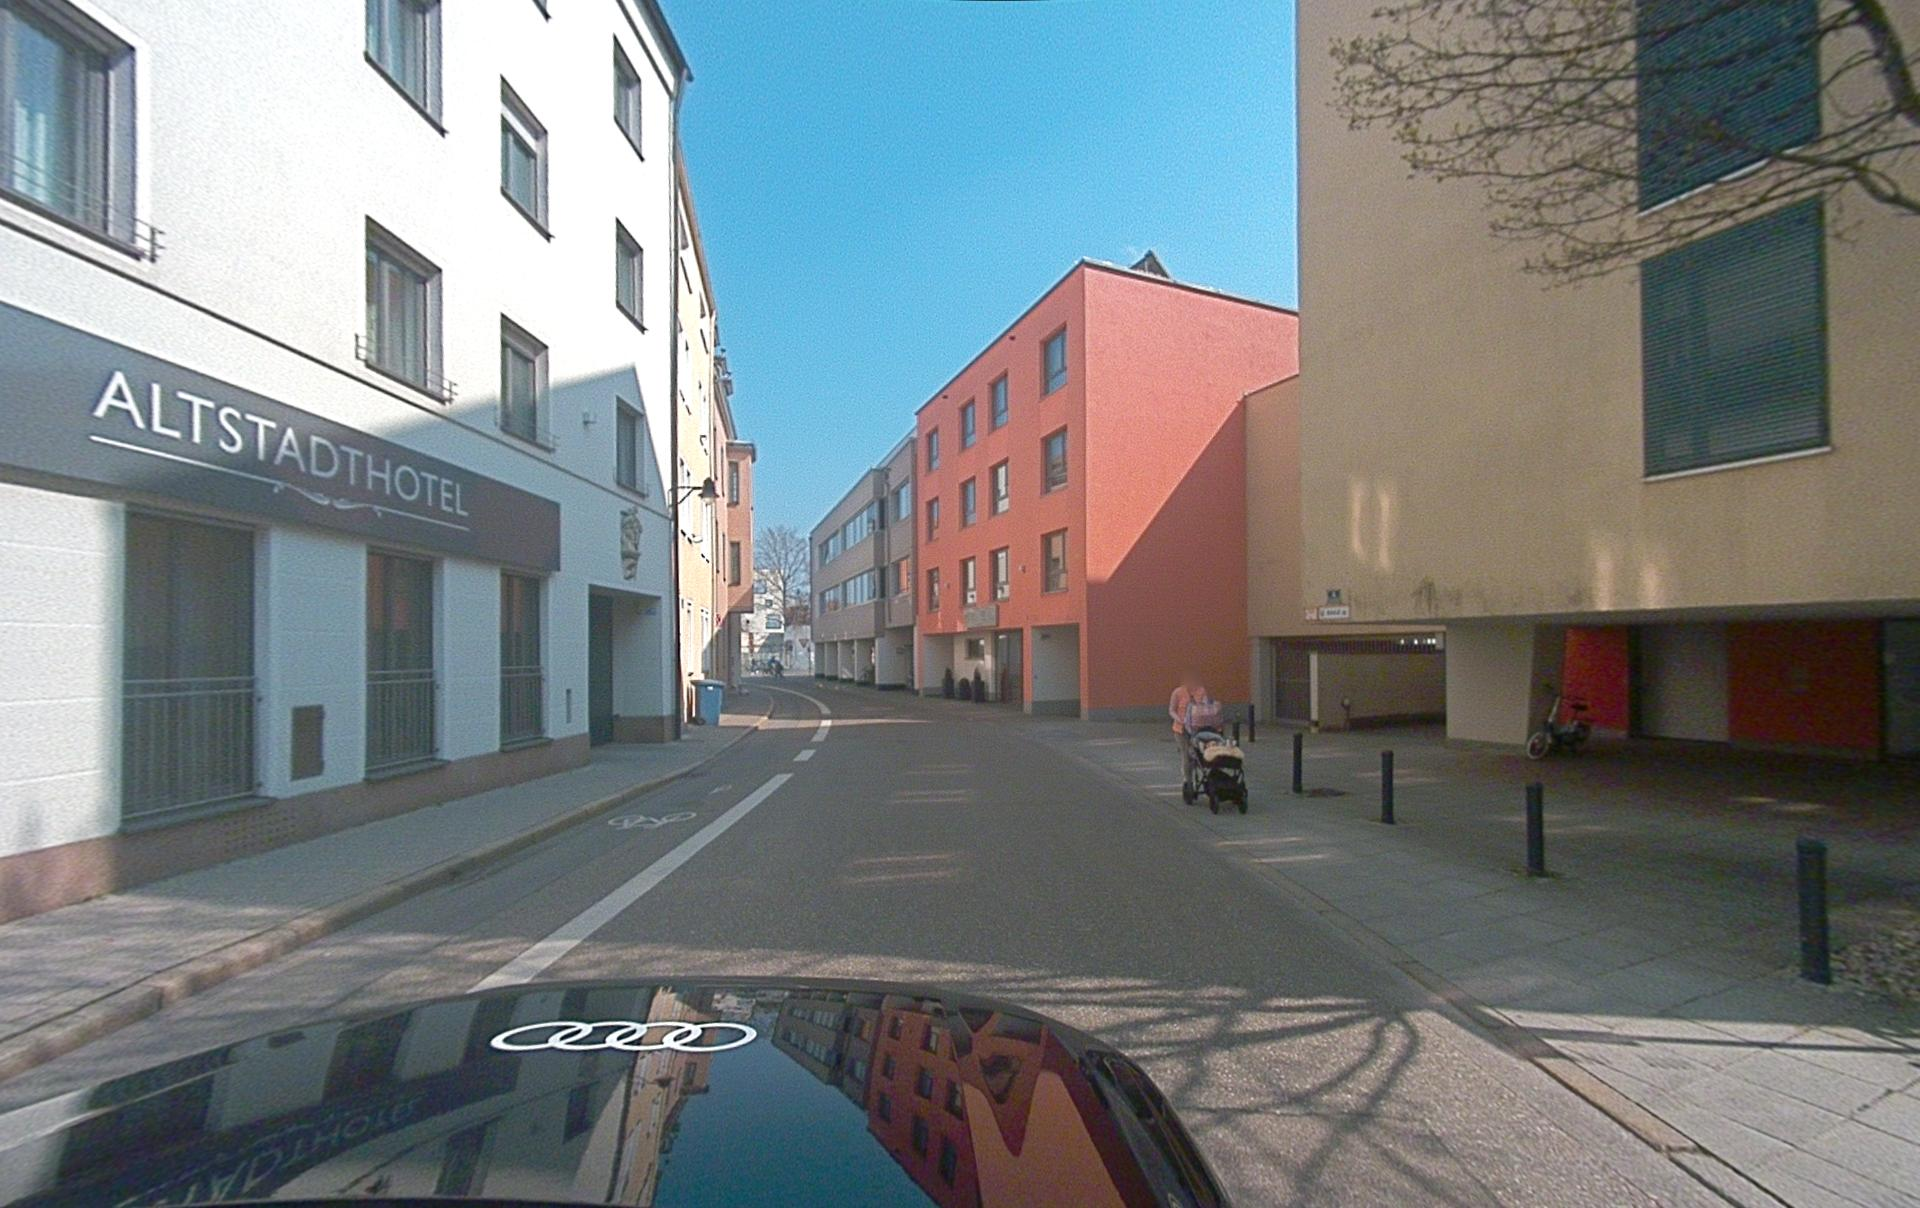car: (1, 977, 1235, 1207)
traffic sign: (1, 299, 562, 578)
